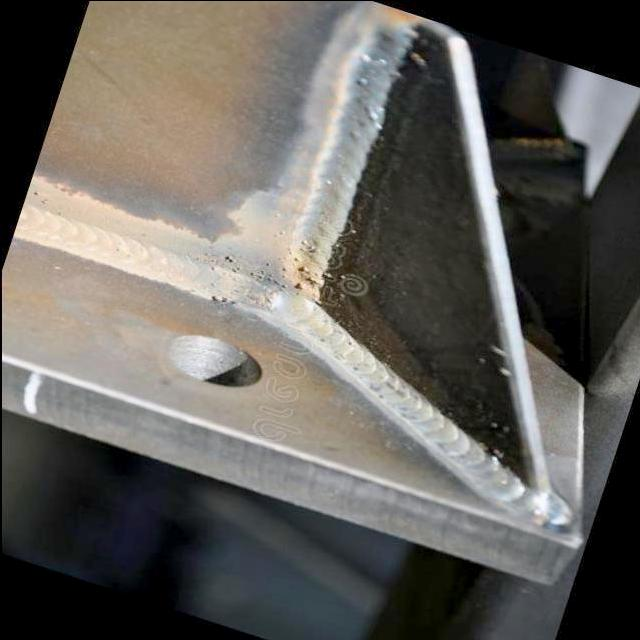defect: (246, 224, 320, 293), (200, 289, 242, 306), (221, 251, 241, 275)
